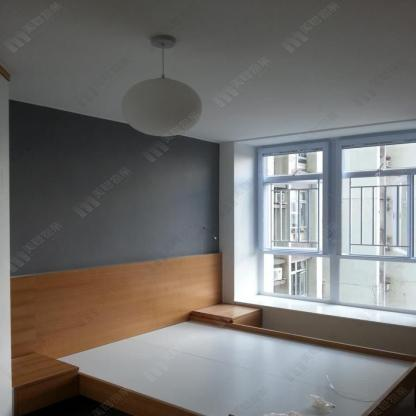Bed Frame: (58, 317, 415, 416)
Windowsill: (219, 118, 415, 329)
